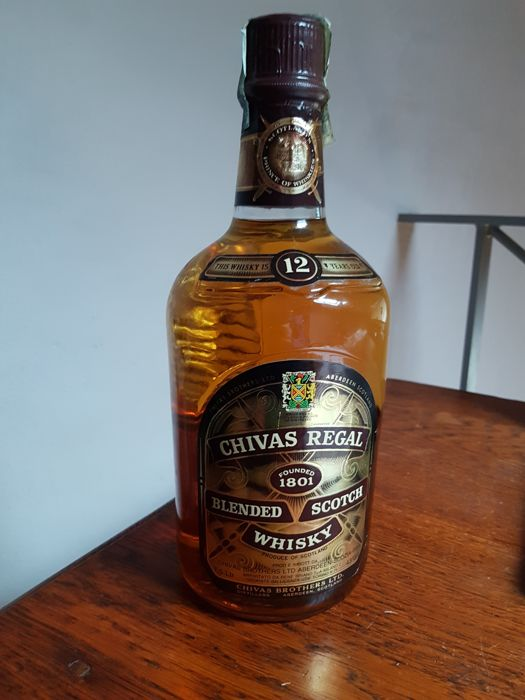Chivas Regal: (148, 6, 405, 631)
